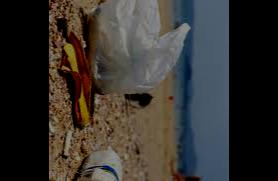Plastic: (86, 0, 193, 97), (67, 143, 125, 180)
